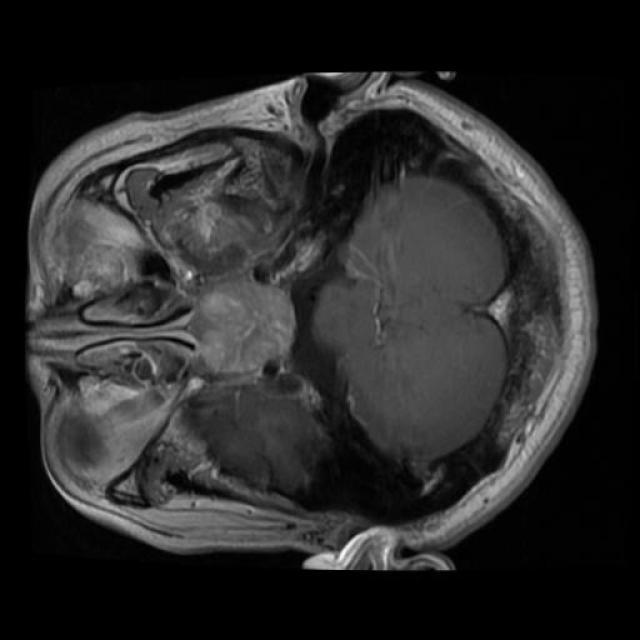Pituitary: (188, 278, 295, 372)
